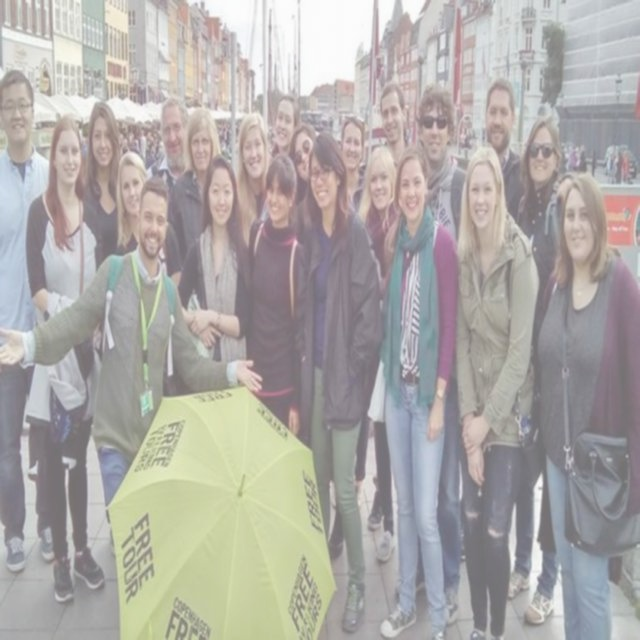pessoa: (532, 169, 639, 639), (292, 128, 384, 634), (374, 142, 462, 638), (454, 144, 542, 638), (23, 110, 108, 610), (393, 81, 468, 628), (506, 111, 564, 630), (0, 66, 56, 576), (288, 120, 346, 562), (234, 150, 314, 450), (175, 152, 256, 381), (357, 146, 399, 568), (78, 112, 342, 178), (330, 111, 372, 514), (442, 120, 639, 190), (165, 105, 222, 290), (115, 148, 183, 294), (81, 97, 122, 266), (484, 76, 523, 226), (234, 110, 272, 252), (143, 94, 189, 200), (379, 78, 411, 170), (270, 90, 302, 158)
